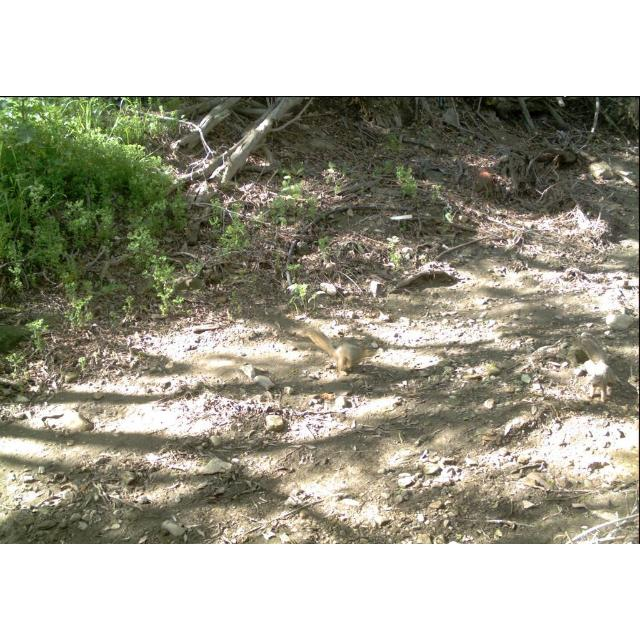animals: (298, 322, 384, 374)
